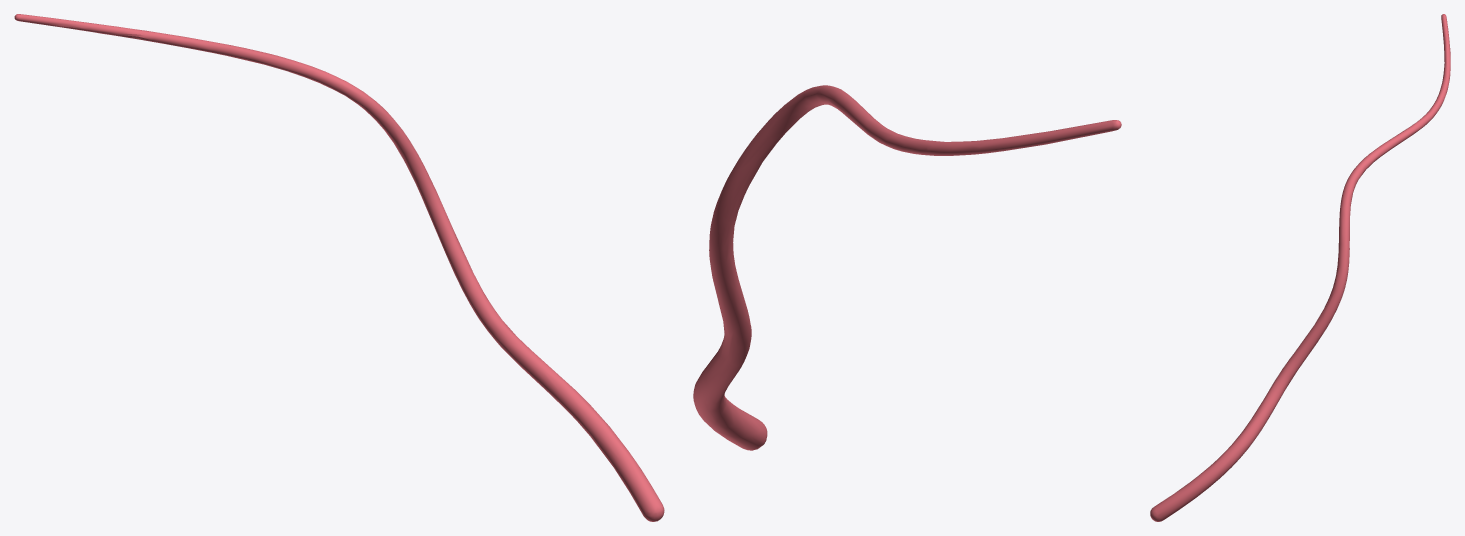
File: fma50487_fj1667m.glb
3 renders of one model, left to right at view 1: azimuth 30°, elevation 25°; view 2: azimuth 150°, elevation 25°; view 3: azimuth 270°, elevation 25°, orthographic. The views are drawn at different scales.
Parts seen in each view (by area): view 1: FMA50487_FJ1667M; view 2: FMA50487_FJ1667M; view 3: FMA50487_FJ1667M.
Part boxes in pixels (x1=…): FMA50487_FJ1667M: x1=14, y1=14, x2=664, y2=521; FMA50487_FJ1667M: x1=693, y1=85, x2=1121, y2=450; FMA50487_FJ1667M: x1=1150, y1=14, x2=1450, y2=521.
Bounding box in the file's own units: 0.0345 × 0.0343 × 0.0268.
